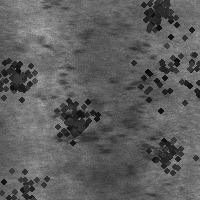rolled-in_scale: (121, 8, 200, 128), (41, 27, 114, 152), (107, 40, 166, 166), (42, 87, 102, 147), (0, 149, 60, 200), (0, 47, 41, 103), (140, 130, 186, 176), (129, 0, 181, 36)
